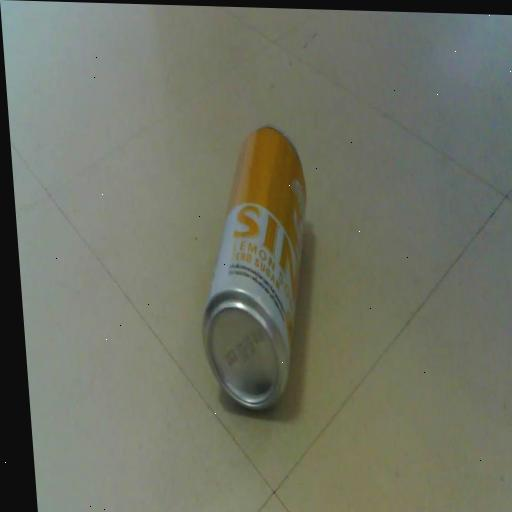canned: (169, 103, 351, 433)
